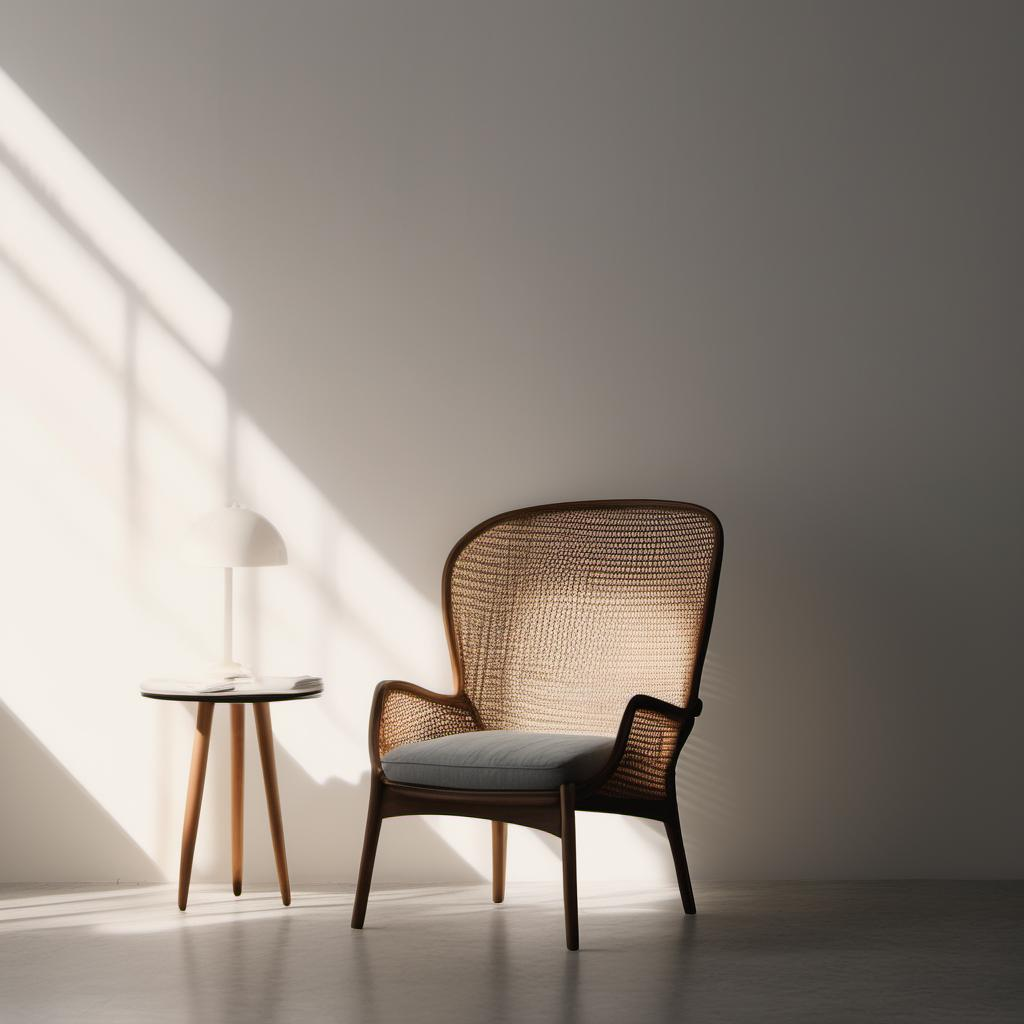chair_new: (343, 499, 727, 949)
